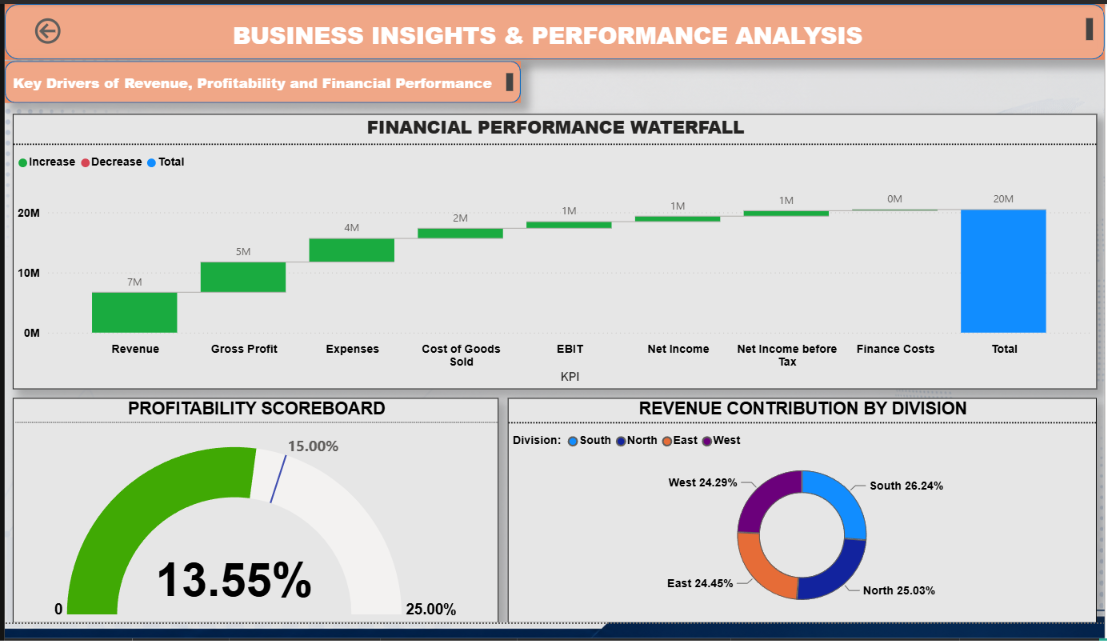

The dashboard page shown, as its layout file describes it:
{"tool":"powerbi","page":{"name":"Business Insights & KPI Analysis ","canvas":[1280,720],"ordinal":3},"visuals":[{"type":"group","id":"g1","title":"Group 1","box":[0,0,1280,64.4],"z":0},{"type":"shape","box":[0,0,1280,64.4],"z":0,"group":"g2"},{"type":"shape","box":[0,66.3,600,48.8],"z":0,"group":"g3"},{"type":"group","id":"g2","title":"Group 2","box":[0,0,1280,64.4],"z":3,"group":"g1"},{"type":"group","id":"g3","title":"Group 2","box":[0,66.3,600,48.8],"z":3,"group":"g4"},{"type":"textbox","box":[9.5,11.6,1261,41.2],"z":1000,"group":"g2"},{"type":"group","id":"g4","title":"Group 1","box":[0,66.3,600,48.8],"z":1000},{"type":"textbox","box":[4.4,75.1,591.1,31.2],"z":1000,"group":"g3"},{"type":"waterfallChart","title":"FINANCIAL PERFORMANCE WATERFALL","fields":{"Category":["Financial KPI 2.KPI"],"Y":["Measure Table.Current KPI 2"]},"box":[9.3,127.9,1260.5,319.8],"z":2000},{"type":"gauge","title":"PROFITABILITY SCOREBOARD","fields":{"Y":["Measure Table.Net Income Margin %"],"MinValue":["Measure Table.Margin Min"],"MaxValue":["Measure Table.Margin Max"],"TargetValue":["Measure Table.Margin Target"]},"box":[9.3,458.1,565.1,261.6],"z":3000},{"type":"donutChart","title":"REVENUE CONTRIBUTION BY DIVISION","fields":{"Category":["Fact_GL.Division"],"Y":["Measure Table.Revenue"]},"box":[584.9,458.1,684.9,261.6],"z":4000},{"type":"actionButton","box":[30.2,11.6,41.9,39.5],"z":5000}]}

Visuals, with their boxes in screenshot pixels (x1, y1, x2, y2), scaled from the page's 1280x720 canvas onto the 1107x641 screenshot:
"Group 1" group: left=0, top=0, right=1106, bottom=57
shape: left=0, top=0, right=1106, bottom=57
shape: left=0, top=59, right=519, bottom=102
"Group 2" group: left=0, top=0, right=1106, bottom=57
"Group 2" group: left=0, top=59, right=519, bottom=102
textbox: left=8, top=10, right=1099, bottom=47
"Group 1" group: left=0, top=59, right=519, bottom=102
textbox: left=4, top=67, right=515, bottom=95
"FINANCIAL PERFORMANCE WATERFALL" waterfallChart: left=8, top=114, right=1098, bottom=399
"PROFITABILITY SCOREBOARD" gauge: left=8, top=408, right=497, bottom=640
"REVENUE CONTRIBUTION BY DIVISION" donutChart: left=506, top=408, right=1098, bottom=640
actionButton: left=26, top=10, right=62, bottom=45
